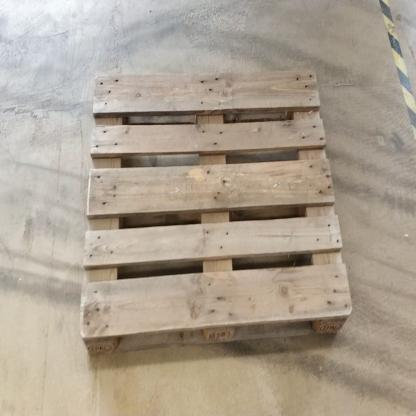BoxFace: (75, 62, 355, 363)
